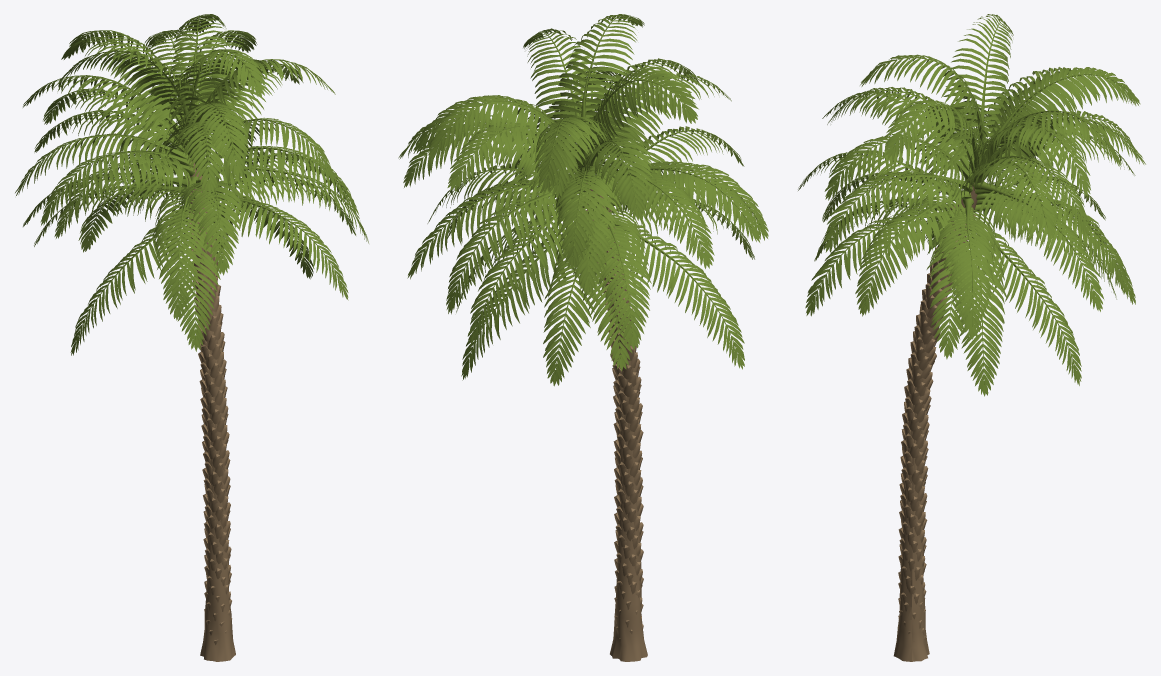
The model's file is Palma 001.obj.
The picture shows the model from 3 angles, left to right: view 1: azimuth 30°, elevation 25°; view 2: azimuth 150°, elevation 25°; view 3: azimuth 270°, elevation 25°; orthographic projection. The views are drawn at different scales.
Visible parts, largest first — view 1: Material__35; view 2: Material__35; view 3: Material__35.
Part boxes in pixels (x1,y1,x2,y2): Material__35: [15, 14, 368, 661]; Material__35: [398, 14, 768, 661]; Material__35: [798, 14, 1145, 661].
Bounding box in the file's own units: 74.68 × 137 × 71.85.
